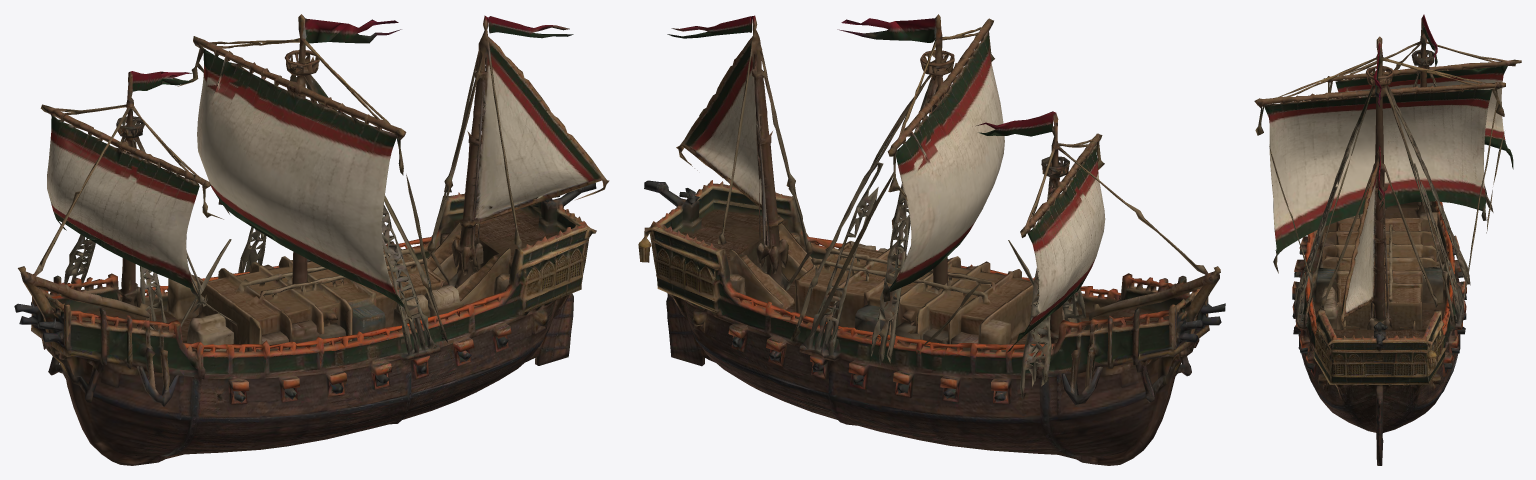
The model's file is osmanli-barca-agir-nakliye-savas-gemisi-1550-1600-tripo-v1.glb.
3 views of the same model, side by side, from view 1: azimuth 30°, elevation 25°; view 2: azimuth 150°, elevation 25°; view 3: azimuth 270°, elevation 25° (orthographic). The views are drawn at different scales.
Parts seen in each view (by area): view 1: tripo_node_ac5643dc-576b-4c6a-a099-f678a1bf0ce1; view 2: tripo_node_ac5643dc-576b-4c6a-a099-f678a1bf0ce1; view 3: tripo_node_ac5643dc-576b-4c6a-a099-f678a1bf0ce1.
Boxes of the visible parts, <box> form: tripo_node_ac5643dc-576b-4c6a-a099-f678a1bf0ce1: <box>14,14,609,465</box>; tripo_node_ac5643dc-576b-4c6a-a099-f678a1bf0ce1: <box>638,14,1225,465</box>; tripo_node_ac5643dc-576b-4c6a-a099-f678a1bf0ce1: <box>1254,14,1521,465</box>.
Bounding box in the file's own units: 1 × 0.6808 × 0.5026.
Materials: 1 (1 with a texture image).
